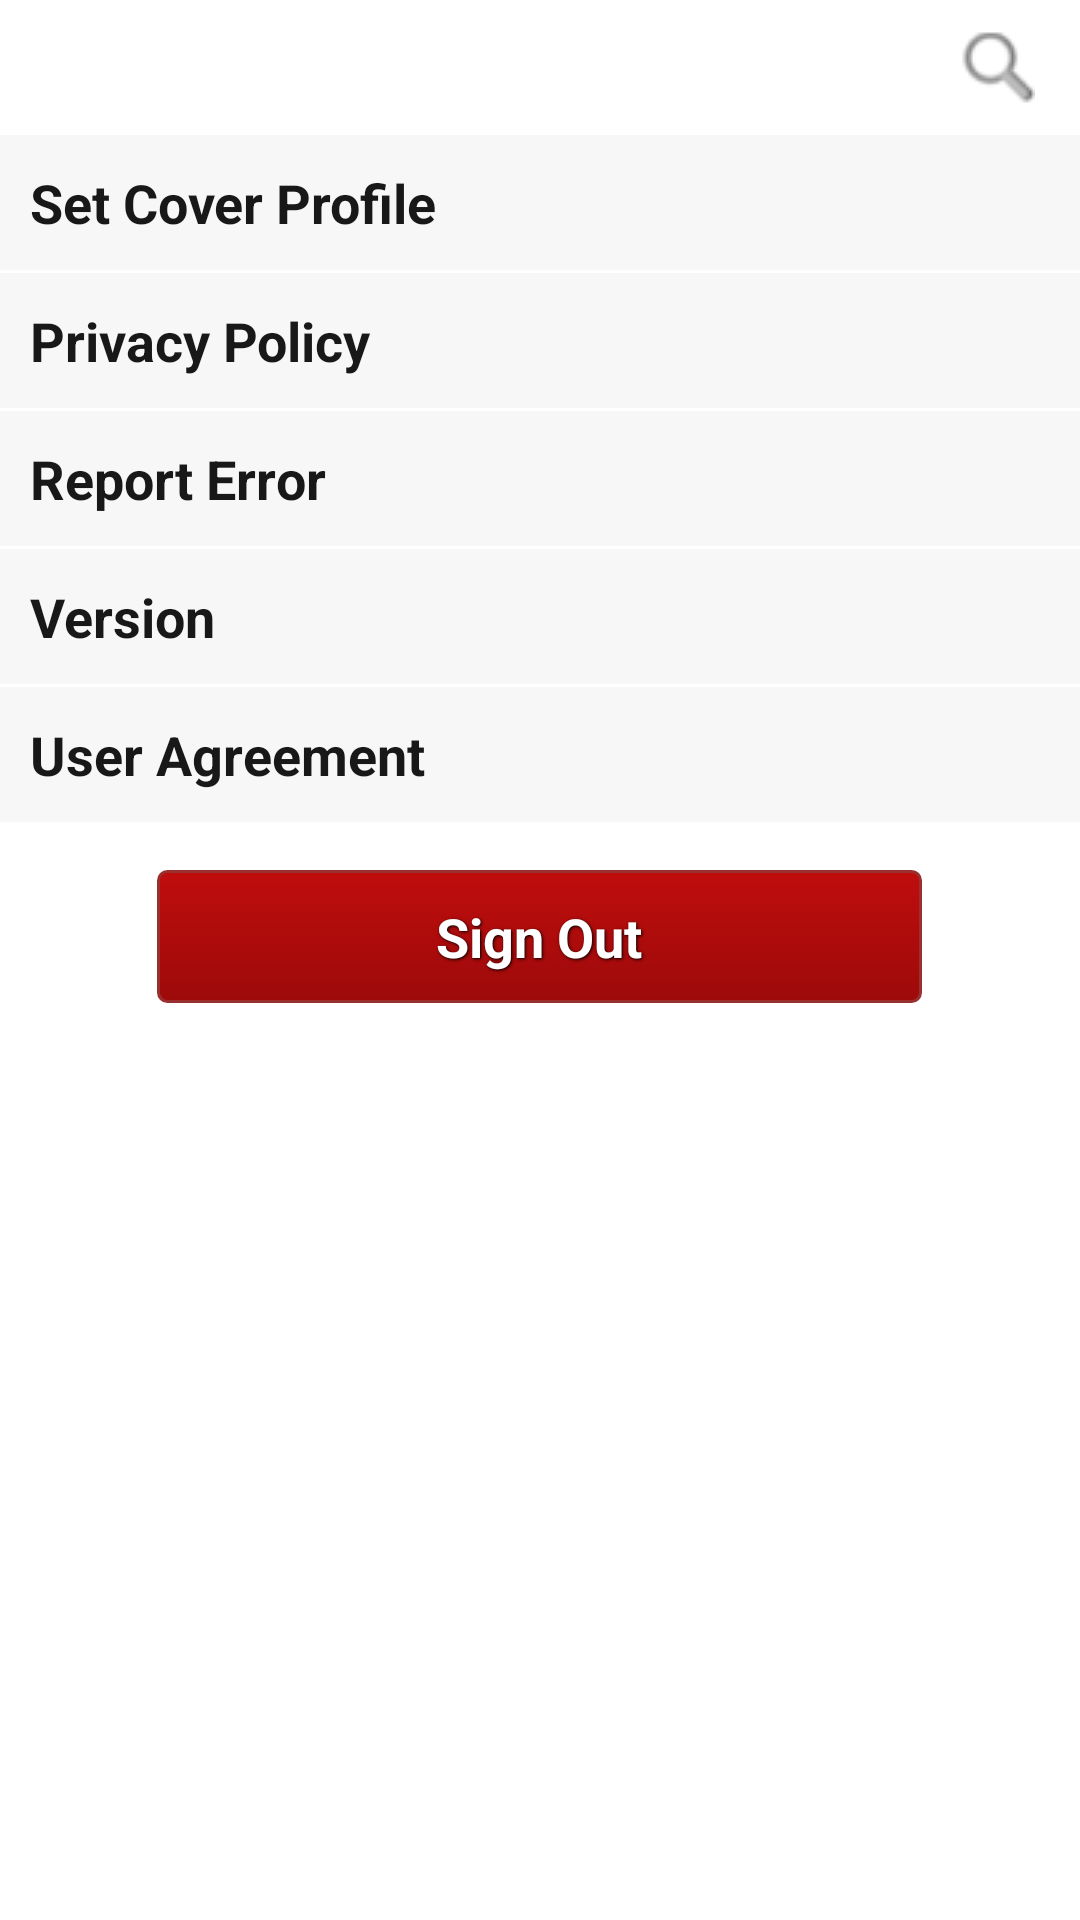

Locate icon controls on the screen. Image size 1080 × 1920, boxes as Rect(x1, y1, x2, y2).
search: Rect(963, 32, 1035, 102)
